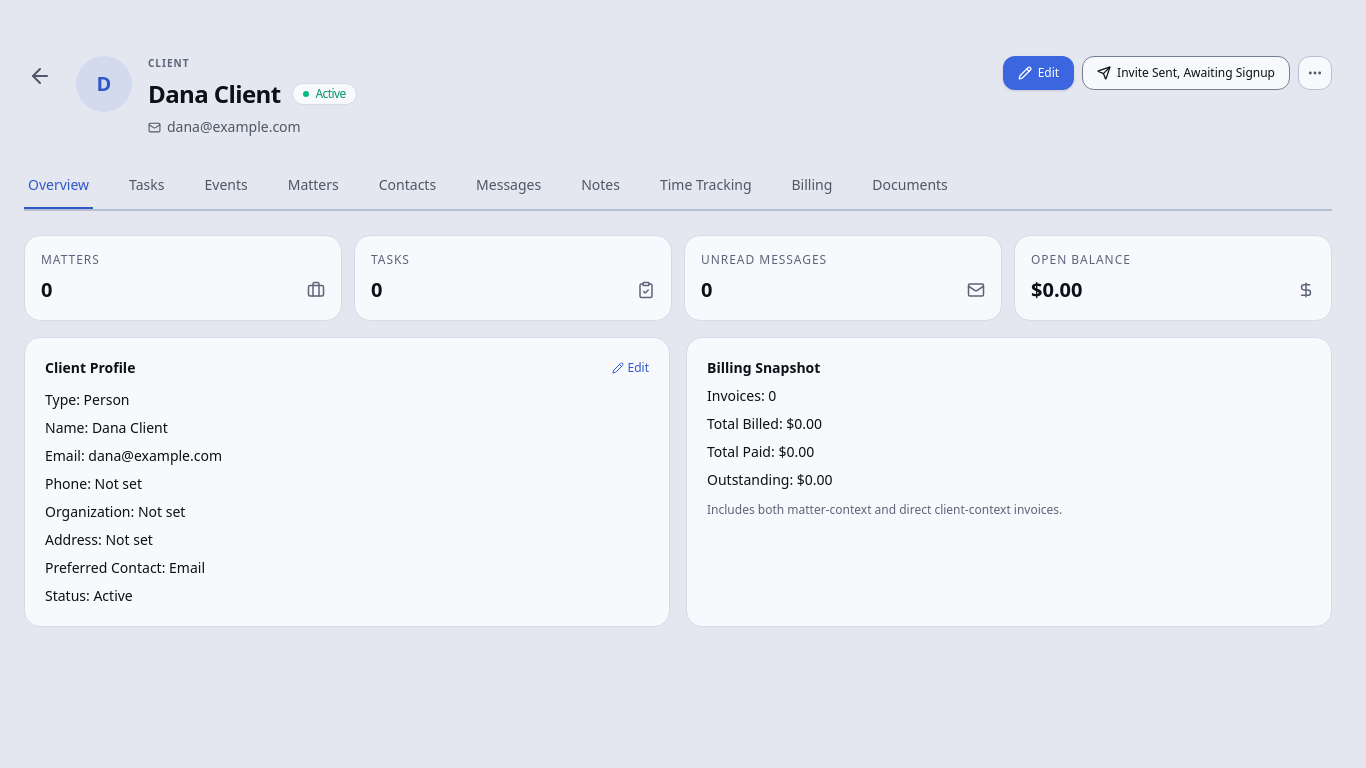
Test case: portal invitation › resends an invite first sent more than a day ago, by client id
Expected: the heading "Dana Client Active" is shown, [148,77,357,110]
Click the button "Invite Sent, Awaiting Signup" at (1186, 73), box [1082,56,1290,90]
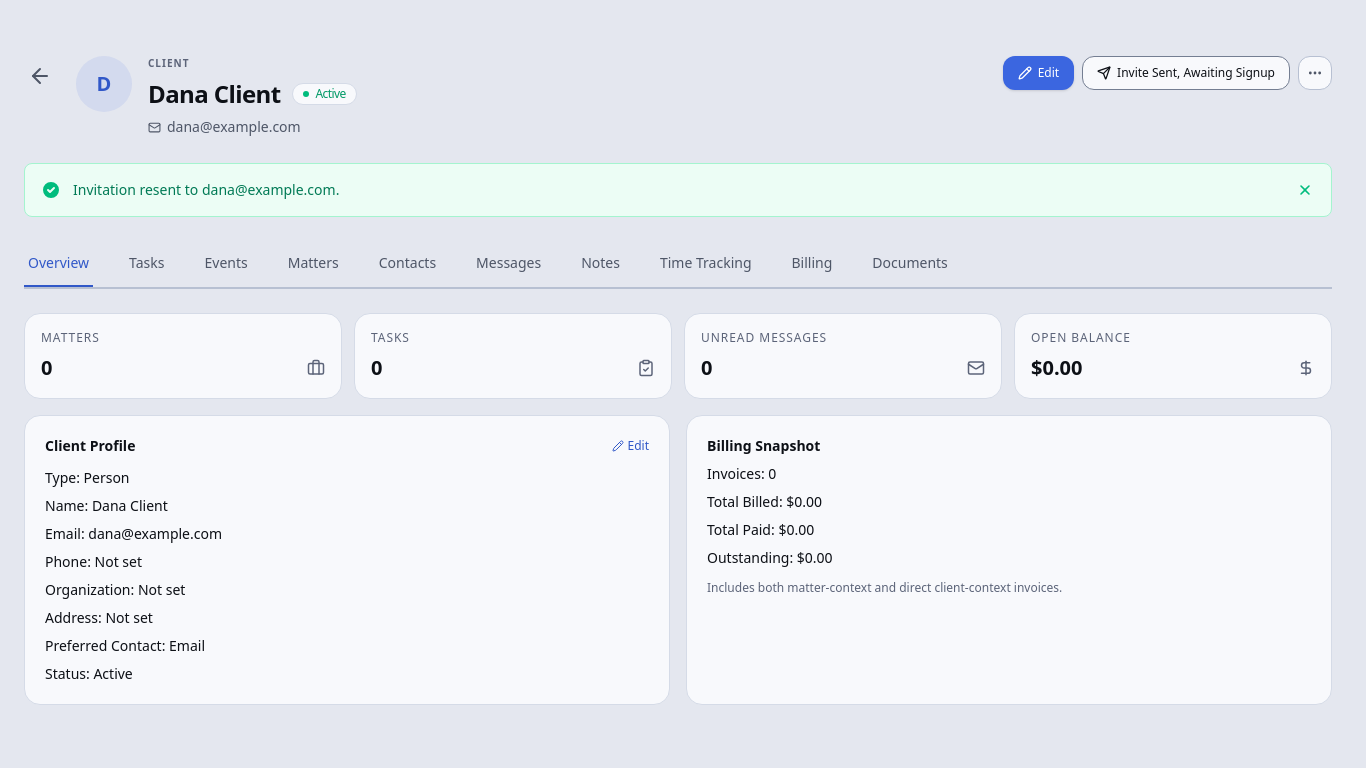
Now the text "Invitation resent to dana@example.com." is shown, box [73,180,339,199]
